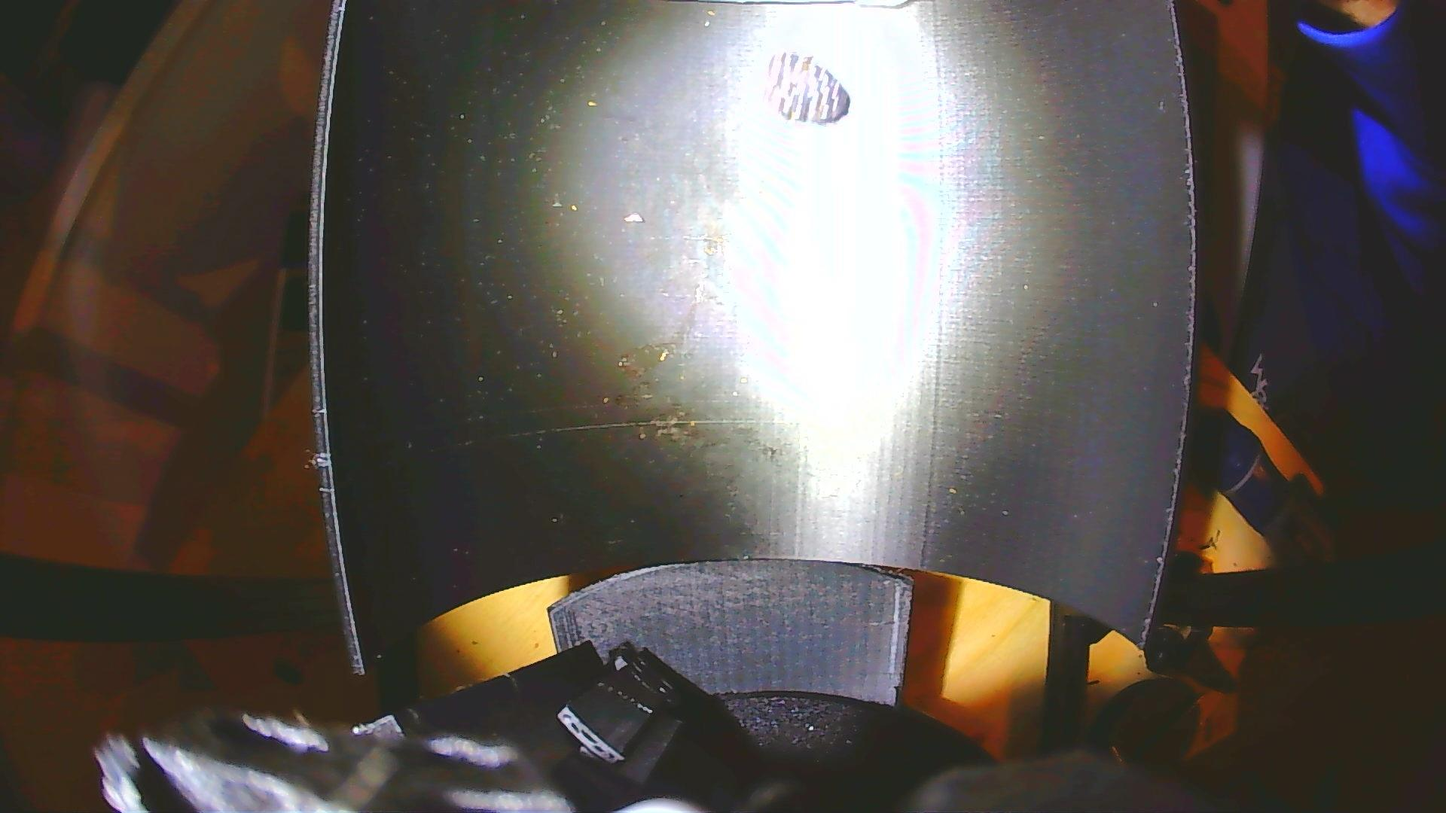berry: (766, 52, 850, 123)
